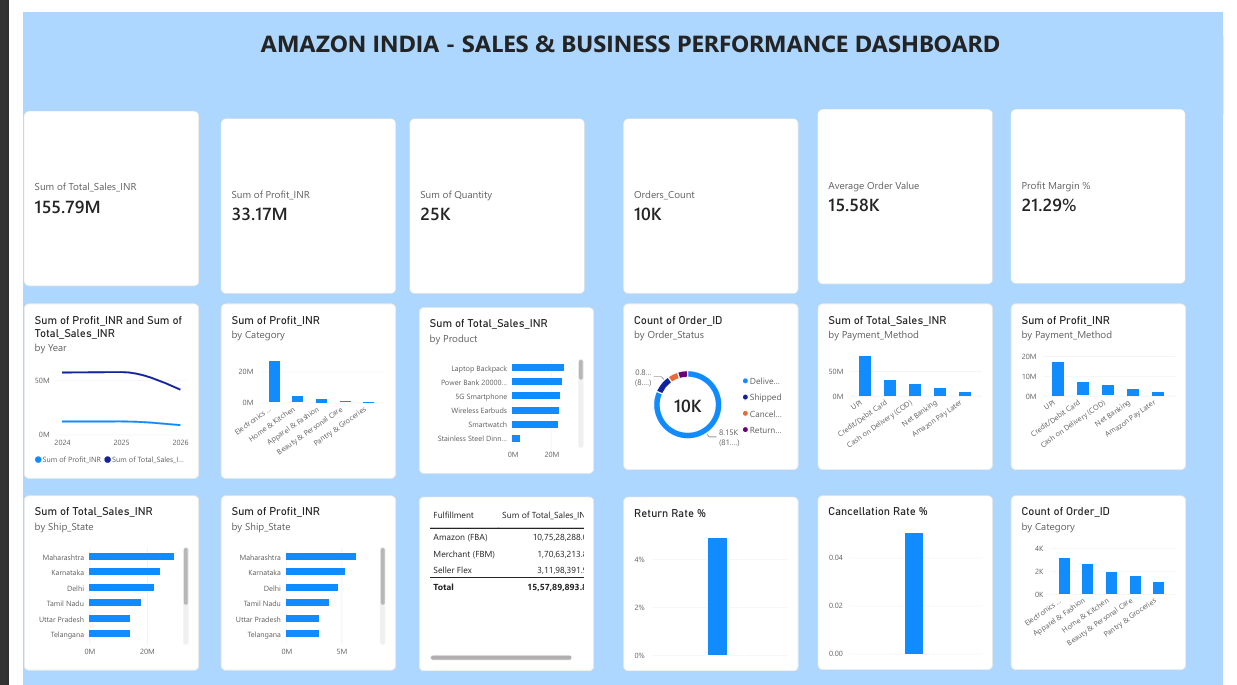

Layout of this report page (visuals, bound fields, positions):
{"tool":"powerbi","page":{"name":"Amazon Sales Overview","canvas":[1920,1080],"ordinal":0},"visuals":[{"type":"cardVisual","fields":{"Data":["Sum(Sheet1.Total_Sales_INR)"]},"box":[0,156.8,280,280],"z":0},{"type":"cardVisual","fields":{"Data":["Sum(Sheet1.Profit_INR)"]},"box":[314.9,168.8,280,280],"z":1000},{"type":"cardVisual","fields":{"Data":["Sum(Sheet1.Quantity)"]},"box":[617.5,168.8,280,280],"z":2000},{"type":"cardVisual","fields":{"Data":["Sheet1.Orders_Count"]},"box":[959.2,168.8,280,280],"z":3000},{"type":"cardVisual","fields":{"Data":["Sheet1.Average Order Value"]},"box":[1270,154.4,280,280],"z":4000},{"type":"cardVisual","fields":{"Data":["Sheet1.Profit Margin %"]},"box":[1578.7,154.4,279.9,279.9],"z":5000},{"type":"lineChart","fields":{"Category":["Sheet1.Order_Date.Variation.Date Hierarchy.Year","Sheet1.Order_Date.Variation.Date Hierarchy.Quarter","Sheet1.Order_Date.Variation.Date Hierarchy.Month","Sheet1.Order_Date.Variation.Date Hierarchy.Day"],"Y":["Sum(Sheet1.Profit_INR)","Sum(Sheet1.Total_Sales_INR)"]},"box":[0,465.2,280,280],"z":6000},{"type":"clusteredColumnChart","fields":{"Category":["Sheet1.Category"],"Y":["Sum(Sheet1.Profit_INR)"]},"box":[314.9,465.2,279.9,279.9],"z":7000},{"type":"clusteredBarChart","fields":{"Category":["Sheet1.Product"],"Y":["Sum(Sheet1.Total_Sales_INR)"]},"box":[631.9,471.4,279.9,265.5],"z":8000},{"type":"donutChart","fields":{"Category":["Sheet1.Order_Status"],"Y":["CountNonNull(Sheet1.Order_ID)"]},"box":[959.2,465.2,279.9,265.5],"z":9000},{"type":"clusteredColumnChart","fields":{"Category":["Sheet1.Payment_Method"],"Y":["Sum(Sheet1.Total_Sales_INR)"]},"box":[1270,465.2,280,266],"z":10000},{"type":"clusteredColumnChart","fields":{"Category":["Sheet1.Payment_Method"],"Y":["Sum(Sheet1.Profit_INR)"]},"box":[1578.7,465.2,280,266],"z":11000},{"type":"clusteredBarChart","fields":{"Category":["Sheet1.Ship_State"],"Y":["Sum(Sheet1.Total_Sales_INR)"]},"box":[0,771.9,280,280],"z":12000},{"type":"clusteredBarChart","fields":{"Category":["Sheet1.Ship_State"],"Y":["Sum(Sheet1.Profit_INR)"]},"box":[314.9,771.9,279.9,279.9],"z":13000},{"type":"textbox","box":[10,895,280,185],"z":14000},{"type":"textbox","box":[315,895,280,185],"z":15000},{"type":"textbox","box":[617.5,605.1,1008.6,53.5],"z":16000},{"type":"textbox","box":[0,22.6,1883.4,88.5],"z":17000},{"type":"textbox","box":[632,801,280,279],"z":18000},{"type":"textbox","box":[959,801,280,279],"z":19000},{"type":"tableEx","fields":{"Values":["Sheet1.Fulfillment","Sum(Sheet1.Total_Sales_INR)"]},"box":[632.3,773.9,280,279],"z":20000},{"type":"clusteredColumnChart","fields":{"Y":["Sheet1.Return Rate %"]},"box":[959.2,773.9,280,279],"z":21000},{"type":"clusteredColumnChart","fields":{"Y":["Sheet1.Cancellation Rate %"]},"box":[1270,771.9,280,279],"z":22000},{"type":"clusteredColumnChart","fields":{"Category":["Sheet1.Category"],"Y":["CountNonNull(Sheet1.Order_ID)"]},"box":[1579,772,280,279],"z":23000}]}

Visuals, with their boxes in screenshot pixels (x1, y1, x2, y2), scaled from the page's 1920x1080 canvas onto the 1237x685 screenshot:
cardVisual - Sum(Sheet1.Total_Sales_INR): bbox(0, 99, 180, 277)
cardVisual - Sum(Sheet1.Profit_INR): bbox(203, 107, 383, 285)
cardVisual - Sum(Sheet1.Quantity): bbox(398, 107, 578, 285)
cardVisual - Sheet1.Orders_Count: bbox(618, 107, 798, 285)
cardVisual - Sheet1.Average Order Value: bbox(818, 98, 999, 276)
cardVisual - Sheet1.Profit Margin %: bbox(1017, 98, 1197, 275)
lineChart - Sheet1.Order_Date.Variation.Date Hierarchy.Year x Sheet1.Order_Date.Variation.Date Hierarchy.Quarter: bbox(0, 295, 180, 473)
clusteredColumnChart - Sheet1.Category x Sum(Sheet1.Profit_INR): bbox(203, 295, 383, 473)
clusteredBarChart - Sheet1.Product x Sum(Sheet1.Total_Sales_INR): bbox(407, 299, 587, 467)
donutChart - Sheet1.Order_Status x CountNonNull(Sheet1.Order_ID): bbox(618, 295, 798, 463)
clusteredColumnChart - Sheet1.Payment_Method x Sum(Sheet1.Total_Sales_INR): bbox(818, 295, 999, 464)
clusteredColumnChart - Sheet1.Payment_Method x Sum(Sheet1.Profit_INR): bbox(1017, 295, 1198, 464)
clusteredBarChart - Sheet1.Ship_State x Sum(Sheet1.Total_Sales_INR): bbox(0, 490, 180, 667)
clusteredBarChart - Sheet1.Ship_State x Sum(Sheet1.Profit_INR): bbox(203, 490, 383, 667)
textbox: bbox(6, 568, 187, 684)
textbox: bbox(203, 568, 383, 684)
textbox: bbox(398, 384, 1048, 418)
textbox: bbox(0, 14, 1213, 70)
textbox: bbox(407, 508, 588, 684)
textbox: bbox(618, 508, 798, 684)
tableEx - Sheet1.Fulfillment x Sum(Sheet1.Total_Sales_INR): bbox(407, 491, 588, 668)
clusteredColumnChart - Sheet1.Return Rate %: bbox(618, 491, 798, 668)
clusteredColumnChart - Sheet1.Cancellation Rate %: bbox(818, 490, 999, 667)
clusteredColumnChart - Sheet1.Category x CountNonNull(Sheet1.Order_ID): bbox(1017, 490, 1198, 667)
